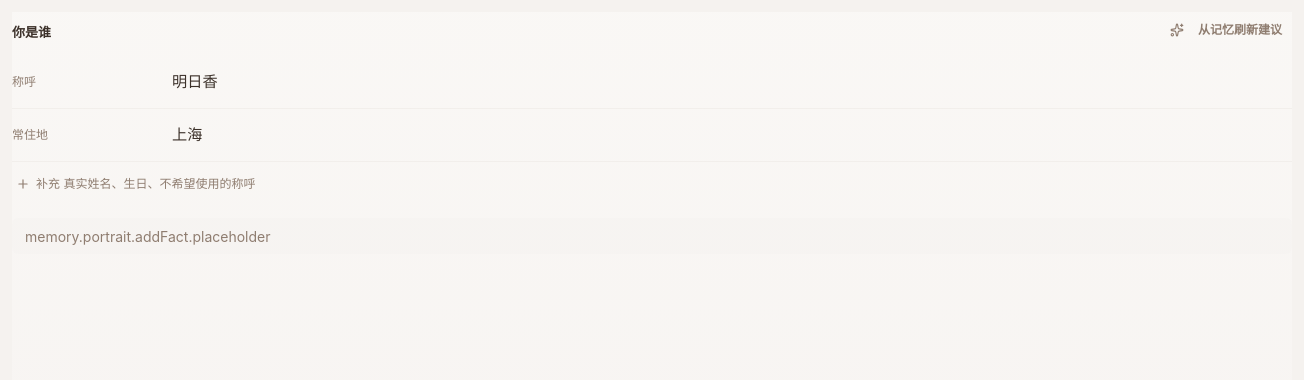
Test: PortraitIdentitySection › collapses empty fields behind an add-more affordance
The width and height of the screenshot is (1304, 380).
Expected: the button "明日香" is shown, [172,68,218,96]
Expected: the button "上海" is shown, [172,121,202,149]
Click the button with test id "portrait-identity-show-empty".
click(136, 184)  # box [12,166,259,202]
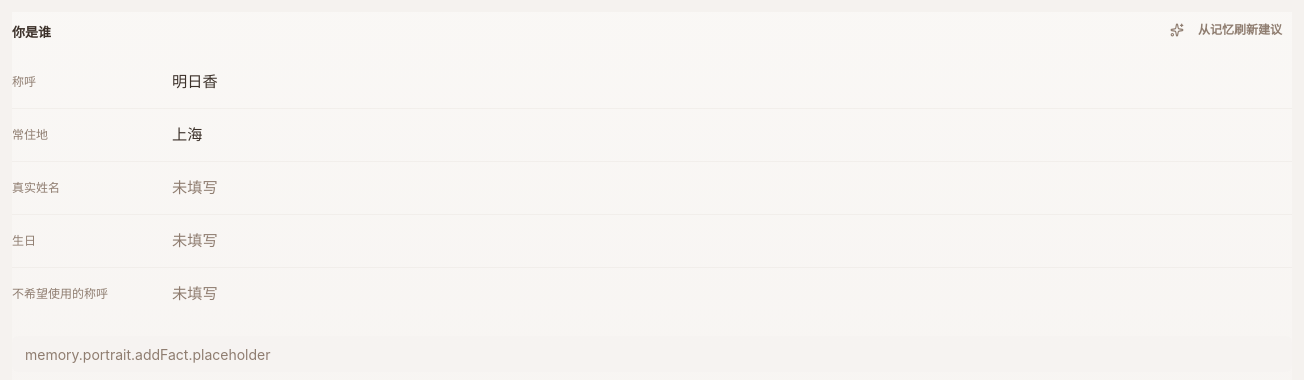
Expected: the element with test id "portrait-identity-field-birth_date" is shown, [12,215,1292,268]
Expected: the element with test id "portrait-identity-field-real_name" is shown, [12,162,1292,215]
